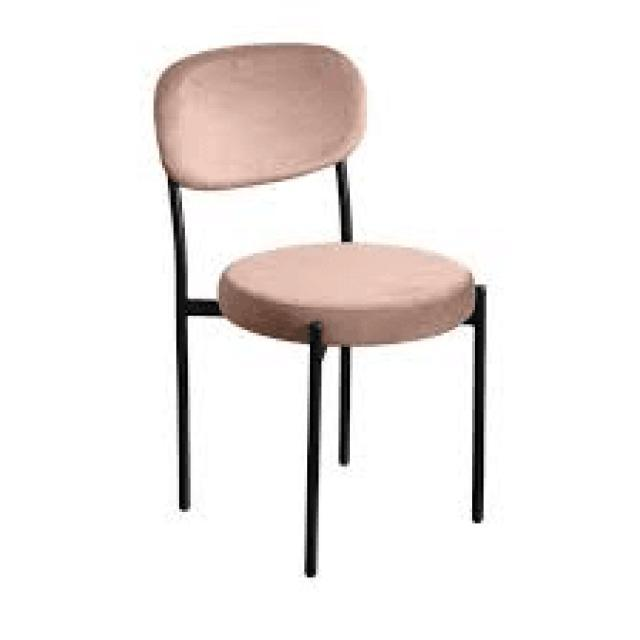chair: (144, 35, 495, 580), (167, 36, 490, 342)
